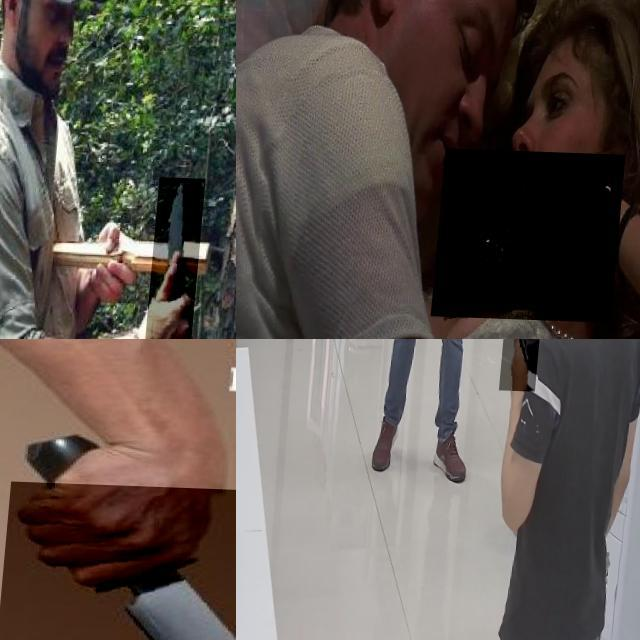-: (0, 479, 236, 640), (151, 173, 210, 339)
gun-knife-thesis - v11 Yolov5 augmented: (441, 146, 633, 319), (506, 339, 551, 404)
